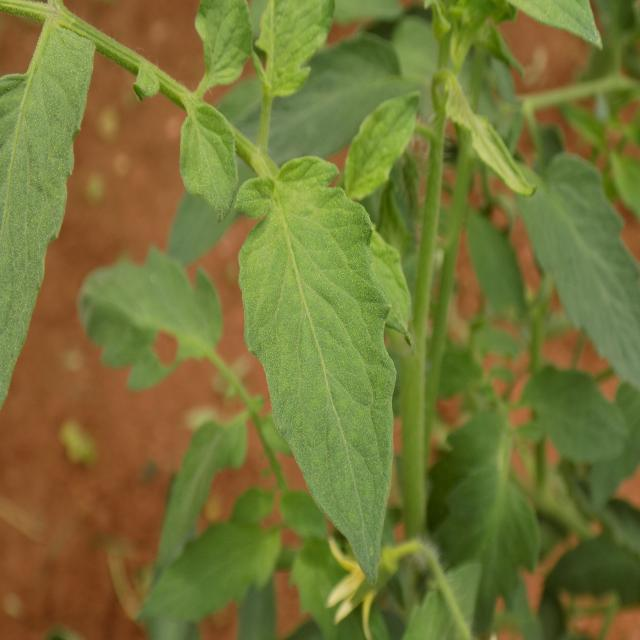tomato_healthy: (224, 156, 396, 585), (513, 144, 640, 397), (334, 88, 434, 208), (176, 106, 242, 226)
